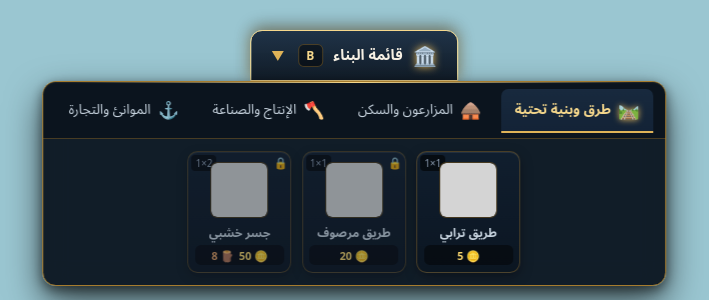
Test: BuildMenu Component (Anno-style) › switches categories and displays corresponding items
Expected: the button "1×1 طريق ترابي 🪙 5" is shown, [416, 151, 520, 273]
Switch to Farmers / Housing
Click the tab "🛖 المزارعون والسكن" at (420, 111), box [344, 89, 495, 133]
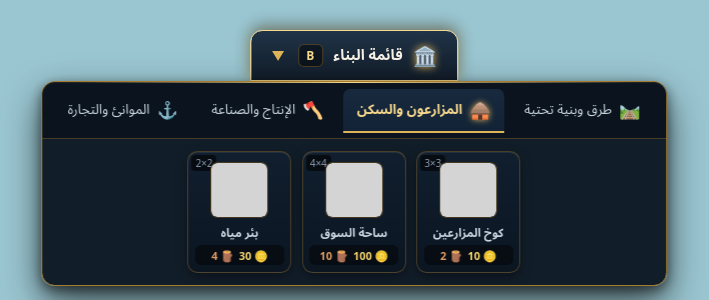
Result: the button "3×3 كوخ المزارعين 🪙 10 🪵 2" is shown at [416, 151, 520, 273]
Result: the button "4×4 ساحة السوق 🪙 100 🪵 10" is shown at [302, 151, 406, 273]
Result: the button "2×2 بئر مياه 🪙 30 🪵 4" is shown at [188, 151, 292, 273]
Switch to Industry
Click the tab "🪓 الإنتاج والصناعة" at (268, 111), box [198, 89, 337, 133]
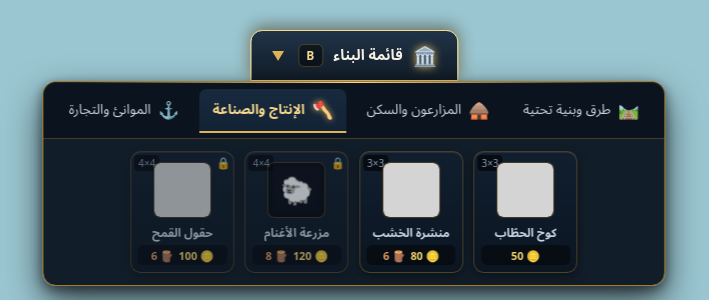
Result: the button "3×3 كوخ الحطّاب 🪙 50" is shown at [474, 151, 578, 273]
Result: the button "3×3 منشرة الخشب 🪙 80 🪵 6" is shown at [359, 151, 463, 273]
